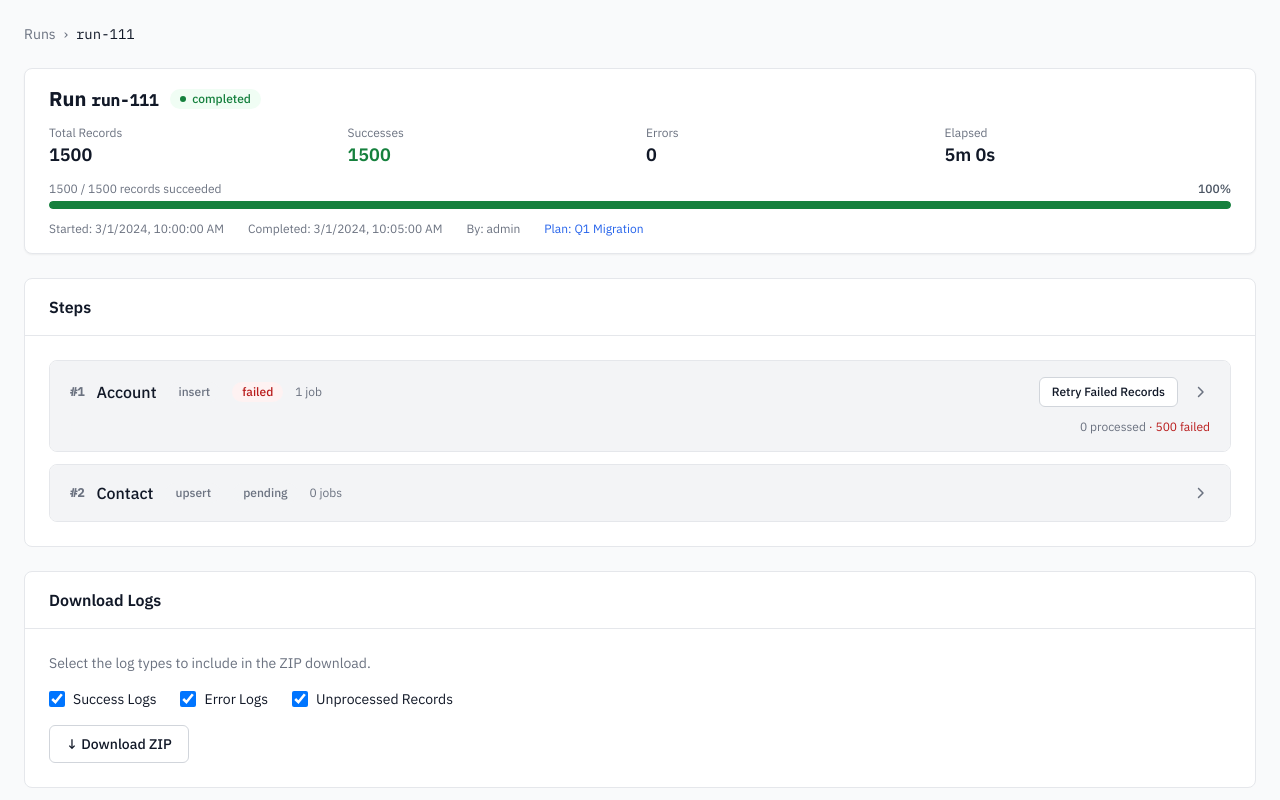
Test: RunDetail › shows job error message in expanded step
The width and height of the screenshot is (1280, 800).
Click the button with aria-label "Step 1: Account" at (126, 392), box [70,380,1027,404]
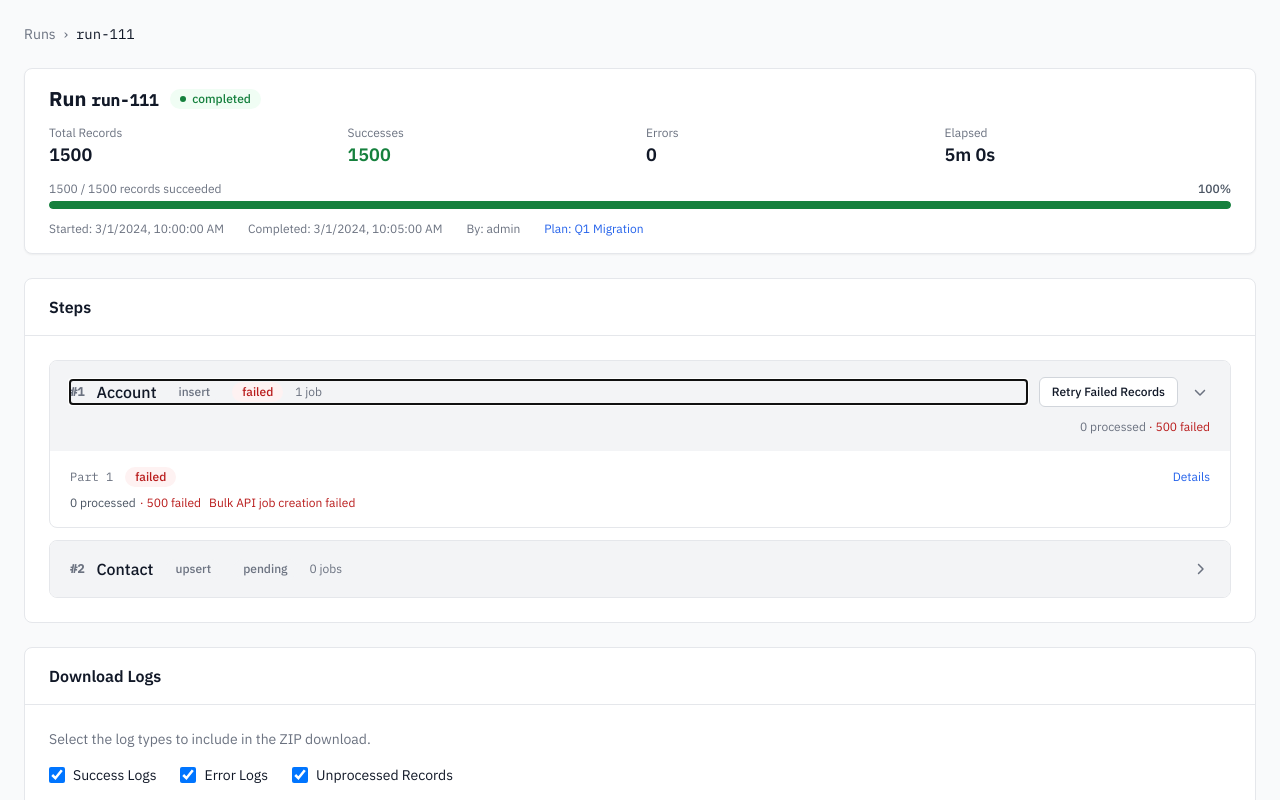
Check: the text "Bulk API job creation failed" is shown, box [209,495,355,511]
